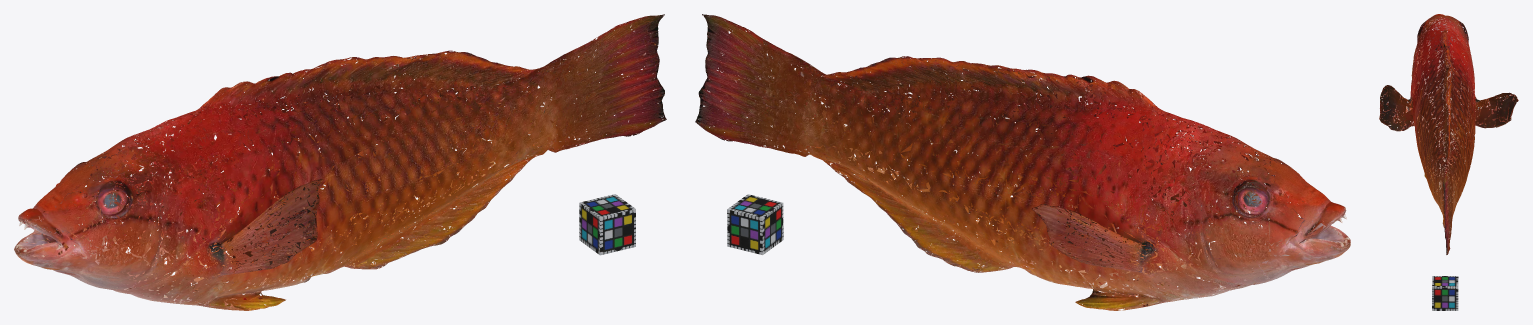
The model's file is scan_wrasse_rednaped.glb.
3 views of the same model, side by side, from view 1: azimuth 30°, elevation 25°; view 2: azimuth 150°, elevation 25°; view 3: azimuth 270°, elevation 25° (orthographic). The views are drawn at different scales.
Visible parts, largest first — view 1: Object_6, Object_11, Object_4; view 2: Object_11, Object_6, Object_4; view 3: Object_11, Object_6, Object_4.
Boxes of the visible parts, x1,y1,x2,y2 form: Object_6: (14, 14, 666, 310); Object_11: (14, 14, 666, 310); Object_4: (579, 194, 635, 255); Object_11: (695, 16, 1349, 310); Object_6: (696, 14, 1350, 310); Object_4: (727, 194, 783, 255); Object_11: (1379, 15, 1518, 252); Object_6: (1379, 14, 1518, 254); Object_4: (1432, 276, 1458, 310).
Bounding box in the file's own units: 10.57 × 3.88 × 3.07.
3 materials, 3 textured.
